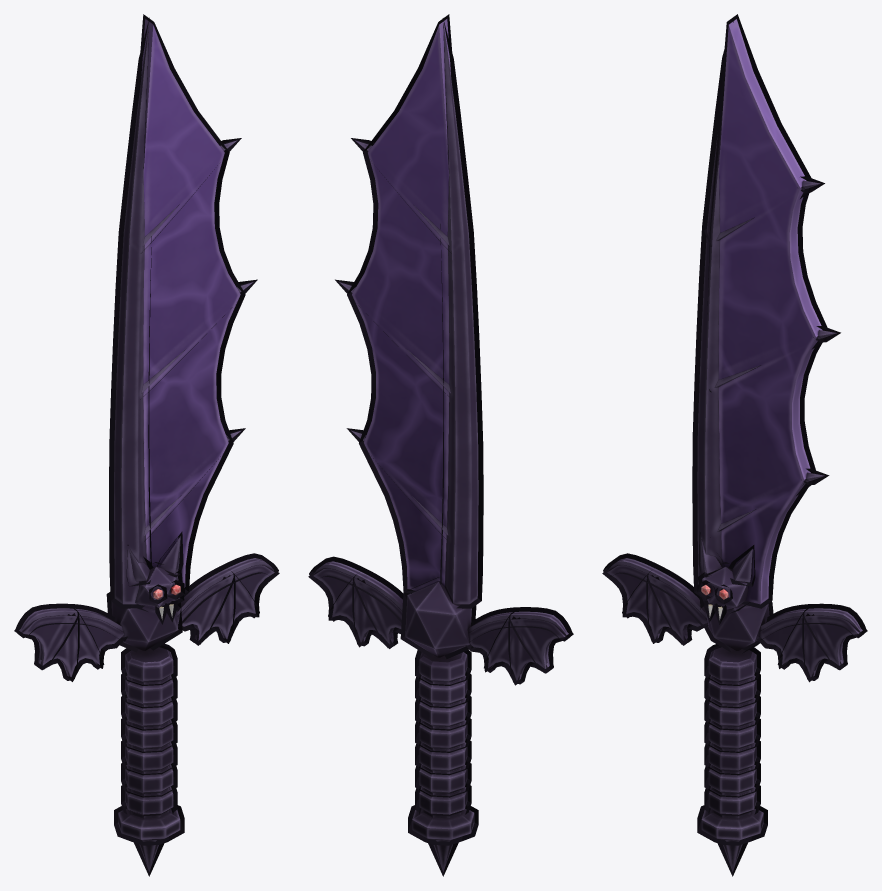
File: BatWingSword.fbx
3 renders of one model, left to right at view 1: azimuth 30°, elevation 25°; view 2: azimuth 150°, elevation 25°; view 3: azimuth 330°, elevation 25°, orthographic.
Parts seen in each view (by area): view 1: BatWingSword, BatWingSwordOutline; view 2: BatWingSword, BatWingSwordOutline; view 3: BatWingSword, BatWingSwordOutline.
Part boxes in pixels (left/top/right/bottom): BatWingSword: left=19, top=19, right=274, bottom=871; BatWingSwordOutline: left=14, top=14, right=279, bottom=876; BatWingSword: left=313, top=19, right=568, bottom=871; BatWingSwordOutline: left=308, top=14, right=573, bottom=876; BatWingSword: left=607, top=19, right=862, bottom=871; BatWingSwordOutline: left=602, top=14, right=867, bottom=876.
Bounding box in the file's own units: 131 × 413 × 36.3.
Materials: 2 (1 with a texture image).
